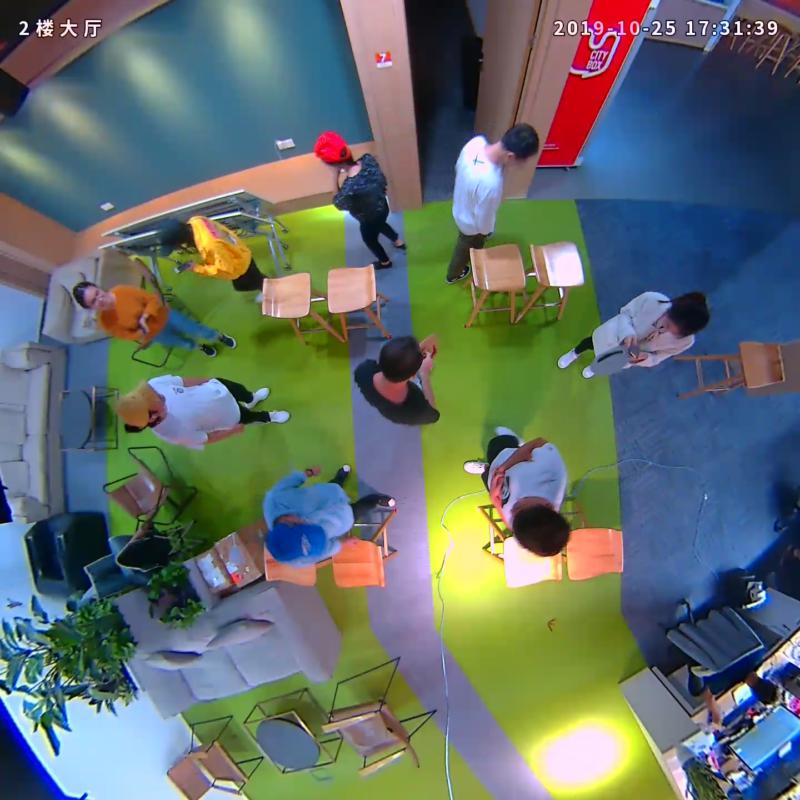head: (508, 497, 570, 556), (264, 517, 327, 562), (115, 379, 166, 428), (378, 334, 423, 384), (661, 299, 711, 340), (500, 123, 540, 168), (312, 130, 355, 168), (155, 216, 190, 259), (72, 280, 113, 311)
